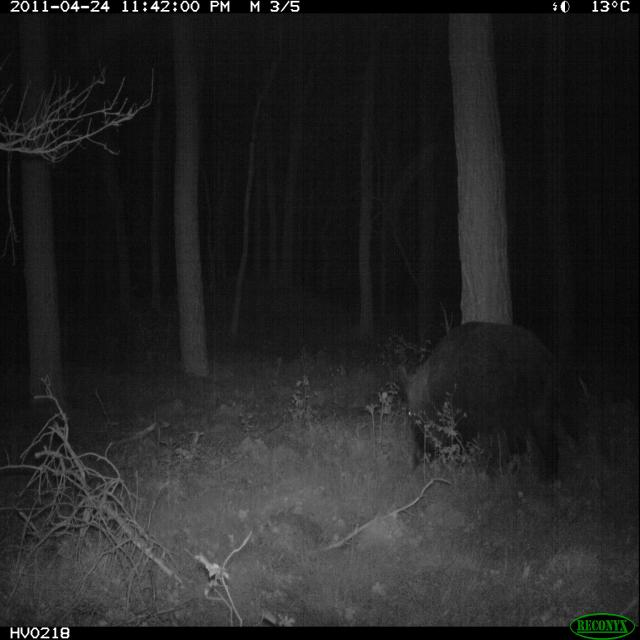boar: (359, 311, 595, 501)
